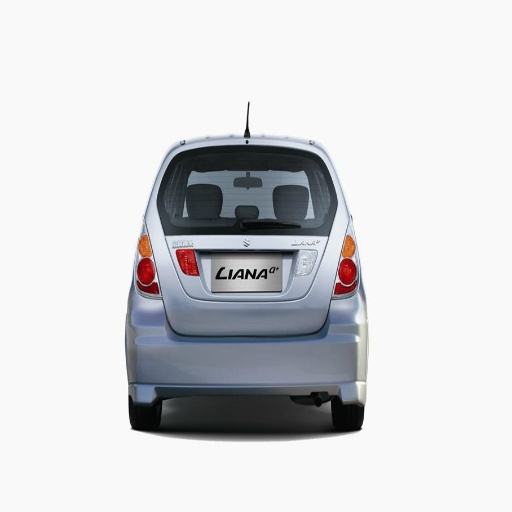back_bumper: (129, 284, 367, 416)
tailgate: (151, 219, 328, 329)
